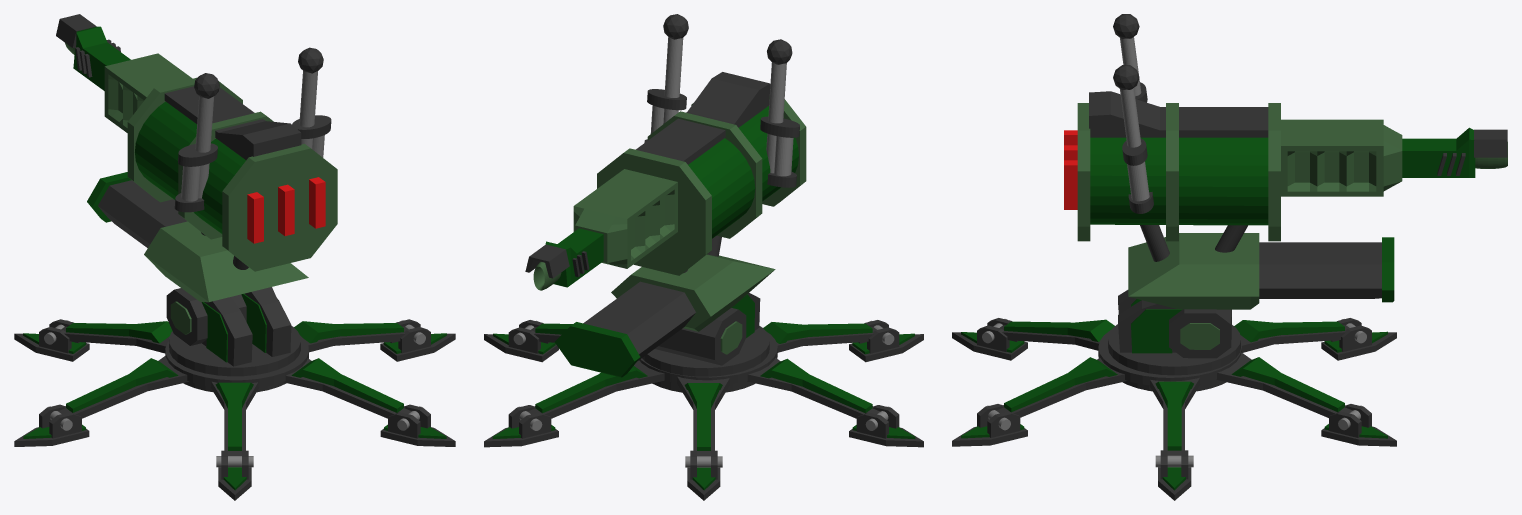
File: feuer.fbx
3 renders of one model, left to right at view 1: azimuth 30°, elevation 25°; view 2: azimuth 150°, elevation 25°; view 3: azimuth 270°, elevation 25°, orthographic.
Visible parts, largest first — view 1: Cube.002, Cube.026; view 2: Cube.002, Cube.026; view 3: Cube.002, Cube.026.
Boxes of the visible parts, bbox=[...] form: Cube.002: bbox=[56, 14, 337, 392]; Cube.026: bbox=[14, 319, 455, 500]; Cube.002: bbox=[525, 14, 806, 392]; Cube.026: bbox=[484, 320, 923, 500]; Cube.002: bbox=[1064, 14, 1507, 391]; Cube.026: bbox=[952, 318, 1396, 500].
Size of the model in its own units: 501 by 379 by 542.
